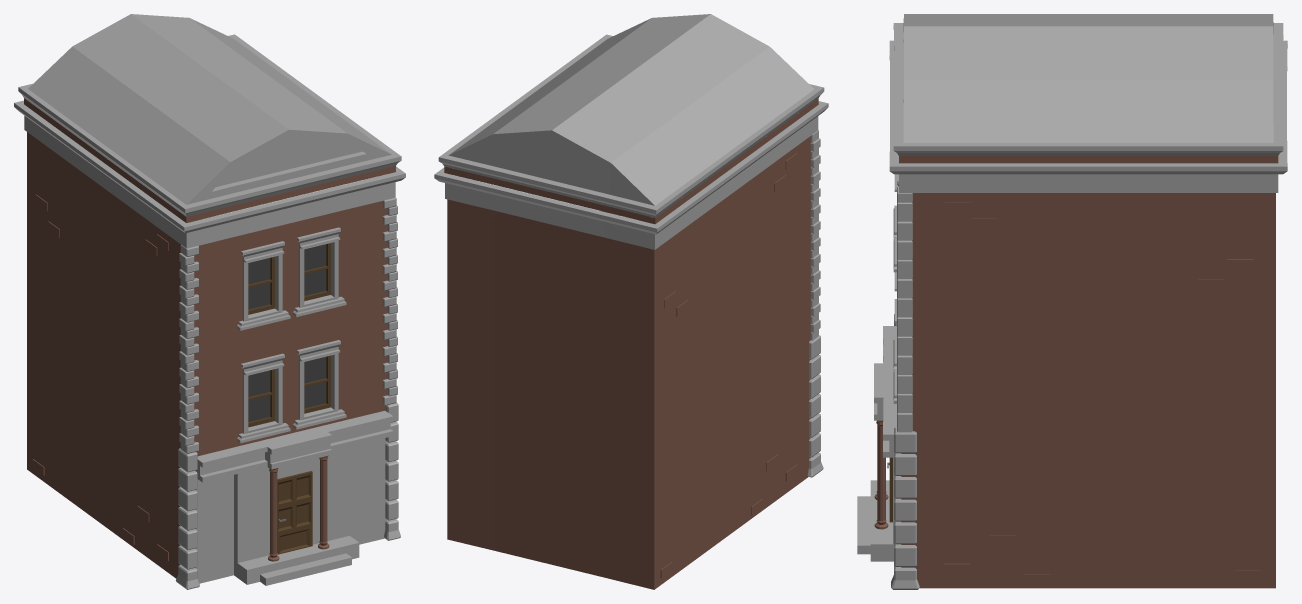
Rendered from Building3_Small.glb.
3 renders of one model, left to right at view 1: azimuth 30°, elevation 25°; view 2: azimuth 150°, elevation 25°; view 3: azimuth 270°, elevation 25°, orthographic. The views are drawn at different scales.
Visible parts, largest first — view 1: Building3_Small; view 2: Building3_Small; view 3: Building3_Small.
Part boxes in pixels (<box>): Building3_Small: <box>14,14,405,589</box>; Building3_Small: <box>434,14,828,589</box>; Building3_Small: <box>857,14,1287,589</box>.
Bounding box in the file's own units: 305 × 568 × 440.
